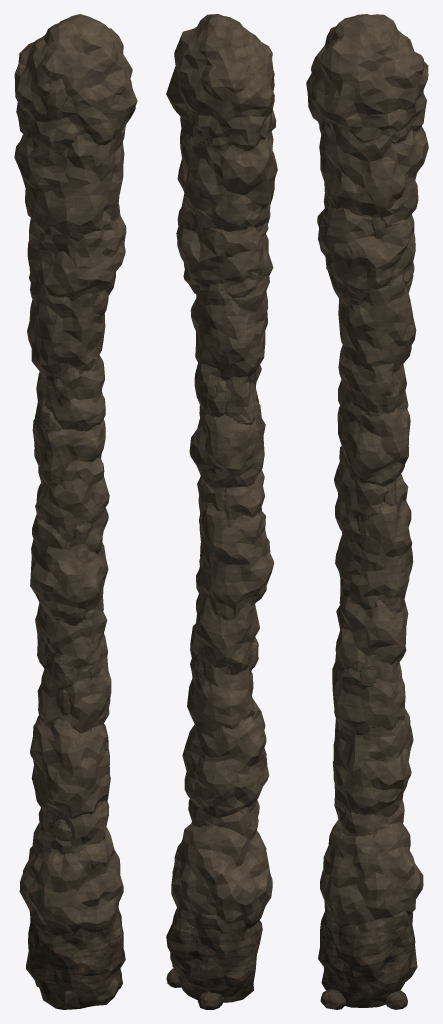
Rendered from mine_pillar_c.glb.
3 renders of one model, left to right at view 1: azimuth 90°, elevation 25°; view 2: azimuth 210°, elevation 25°; view 3: azimuth 270°, elevation 25°, orthographic.
Parts seen in each view (by area): view 1: mine_pillar_c; view 2: mine_pillar_c; view 3: mine_pillar_c.
Boxes of the visible parts, bbox=[...] form: mine_pillar_c: bbox=[14, 14, 137, 1009]; mine_pillar_c: bbox=[166, 14, 277, 1009]; mine_pillar_c: bbox=[306, 14, 428, 1009].
Size of the model in its own units: 2.73 by 25.67 by 2.92.
Materials: 1 (1 with a texture image).
